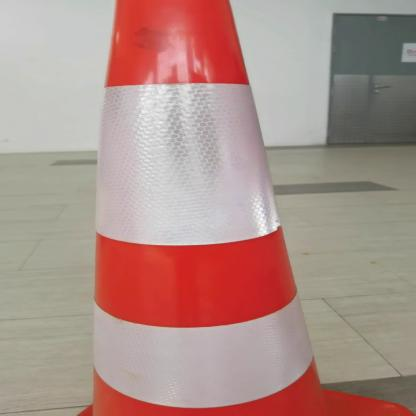cone: (30, 0, 415, 416)
